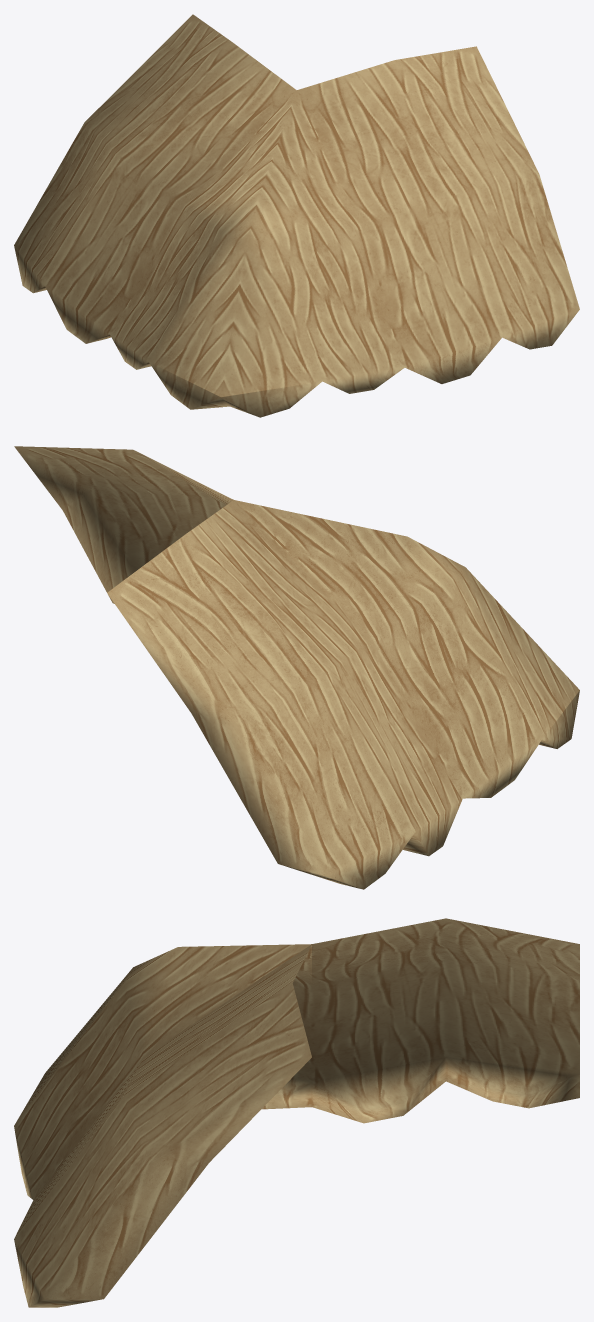
The model's file is GenHouseThatchRoofCorner.fbx.
3 views of the same model, one above another, from view 1: azimuth 30°, elevation 25°; view 2: azimuth 150°, elevation 25°; view 3: azimuth 270°, elevation 25° (orthographic). The views are drawn at different scales.
Parts seen in each view (by area): view 1: GenHouse_Mod_ThatchRoofCorner; view 2: GenHouse_Mod_ThatchRoofCorner; view 3: GenHouse_Mod_ThatchRoofCorner.
Part boxes in pixels (x1,y1,x2,y2): GenHouse_Mod_ThatchRoofCorner: (14,14,579,417); GenHouse_Mod_ThatchRoofCorner: (14,446,579,889); GenHouse_Mod_ThatchRoofCorner: (14,918,579,1307).
Size of the model in its own units: 5.57 by 3.3 by 5.57.
1 material, 1 textured.
